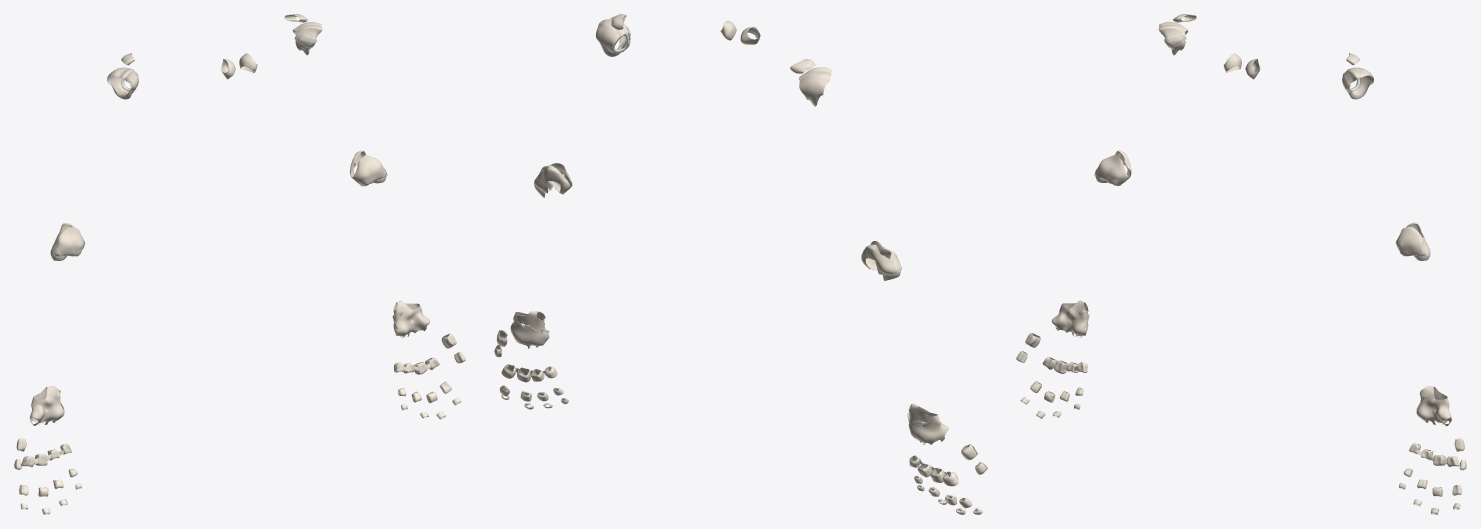
File: zanatomy-joints-upper.glb
The picture shows the model from 3 angles, left to right: view 1: azimuth 30°, elevation 25°; view 2: azimuth 150°, elevation 25°; view 3: azimuth 330°, elevation 25°; orthographic projection. The views are drawn at different scales.
Parts seen in each view (by area): view 1: zj_radiocarpal_joint_capsule_r_1, zj_radiocarpal_joint_capsule_l_1, zj_elbow_joint_capsule_l_1, zj_elbow_joint_capsule_r_1, zj_glenohumeral_joint_capsule_r_1, zj_metacarpophalangeal_joint_capsules_l_1, zj_metacarpophalangeal_joint_capsules_r_1; view 2: zj_radiocarpal_joint_capsule_r_1, zj_radiocarpal_joint_capsule_l_1, zj_glenohumeral_joint_capsule_r_1, zj_elbow_joint_capsule_r_1, zj_glenohumeral_joint_capsule_l_1, zj_elbow_joint_capsule_l_1, zj_metacarpophalangeal_joint_capsules_r_1, zj_metacarpophalangeal_joint_capsules_l_1; view 3: zj_radiocarpal_joint_capsule_l_1, zj_radiocarpal_joint_capsule_r_1, zj_elbow_joint_capsule_r_1, zj_elbow_joint_capsule_l_1, zj_glenohumeral_joint_capsule_l_1, zj_metacarpophalangeal_joint_capsules_r_1.
Part boxes in pixels (bbox=[...]): zj_radiocarpal_joint_capsule_r_1: bbox=[29, 386, 64, 425]; zj_radiocarpal_joint_capsule_l_1: bbox=[393, 300, 429, 338]; zj_elbow_joint_capsule_l_1: bbox=[349, 150, 386, 185]; zj_elbow_joint_capsule_r_1: bbox=[51, 223, 84, 256]; zj_glenohumeral_joint_capsule_r_1: bbox=[107, 67, 138, 99]; zj_metacarpophalangeal_joint_capsules_l_1: bbox=[394, 333, 455, 374]; zj_metacarpophalangeal_joint_capsules_r_1: bbox=[16, 438, 72, 466]; zj_radiocarpal_joint_capsule_r_1: bbox=[908, 403, 948, 445]; zj_radiocarpal_joint_capsule_l_1: bbox=[510, 311, 549, 348]; zj_glenohumeral_joint_capsule_r_1: bbox=[798, 67, 831, 106]; zj_elbow_joint_capsule_r_1: bbox=[861, 241, 899, 274]; zj_glenohumeral_joint_capsule_l_1: bbox=[596, 16, 629, 56]; zj_elbow_joint_capsule_l_1: bbox=[534, 163, 571, 193]; zj_metacarpophalangeal_joint_capsules_r_1: bbox=[909, 444, 976, 486]; zj_metacarpophalangeal_joint_capsules_l_1: bbox=[496, 330, 557, 382]; zj_radiocarpal_joint_capsule_l_1: bbox=[1416, 386, 1451, 426]; zj_radiocarpal_joint_capsule_r_1: bbox=[1052, 300, 1088, 337]; zj_elbow_joint_capsule_r_1: bbox=[1095, 150, 1131, 185]; zj_elbow_joint_capsule_l_1: bbox=[1396, 222, 1430, 256]; zj_glenohumeral_joint_capsule_l_1: bbox=[1342, 67, 1373, 99]; zj_metacarpophalangeal_joint_capsules_r_1: bbox=[1027, 333, 1087, 373].
Size of the model in its own units: 0.8449 by 0.7359 by 0.122.
